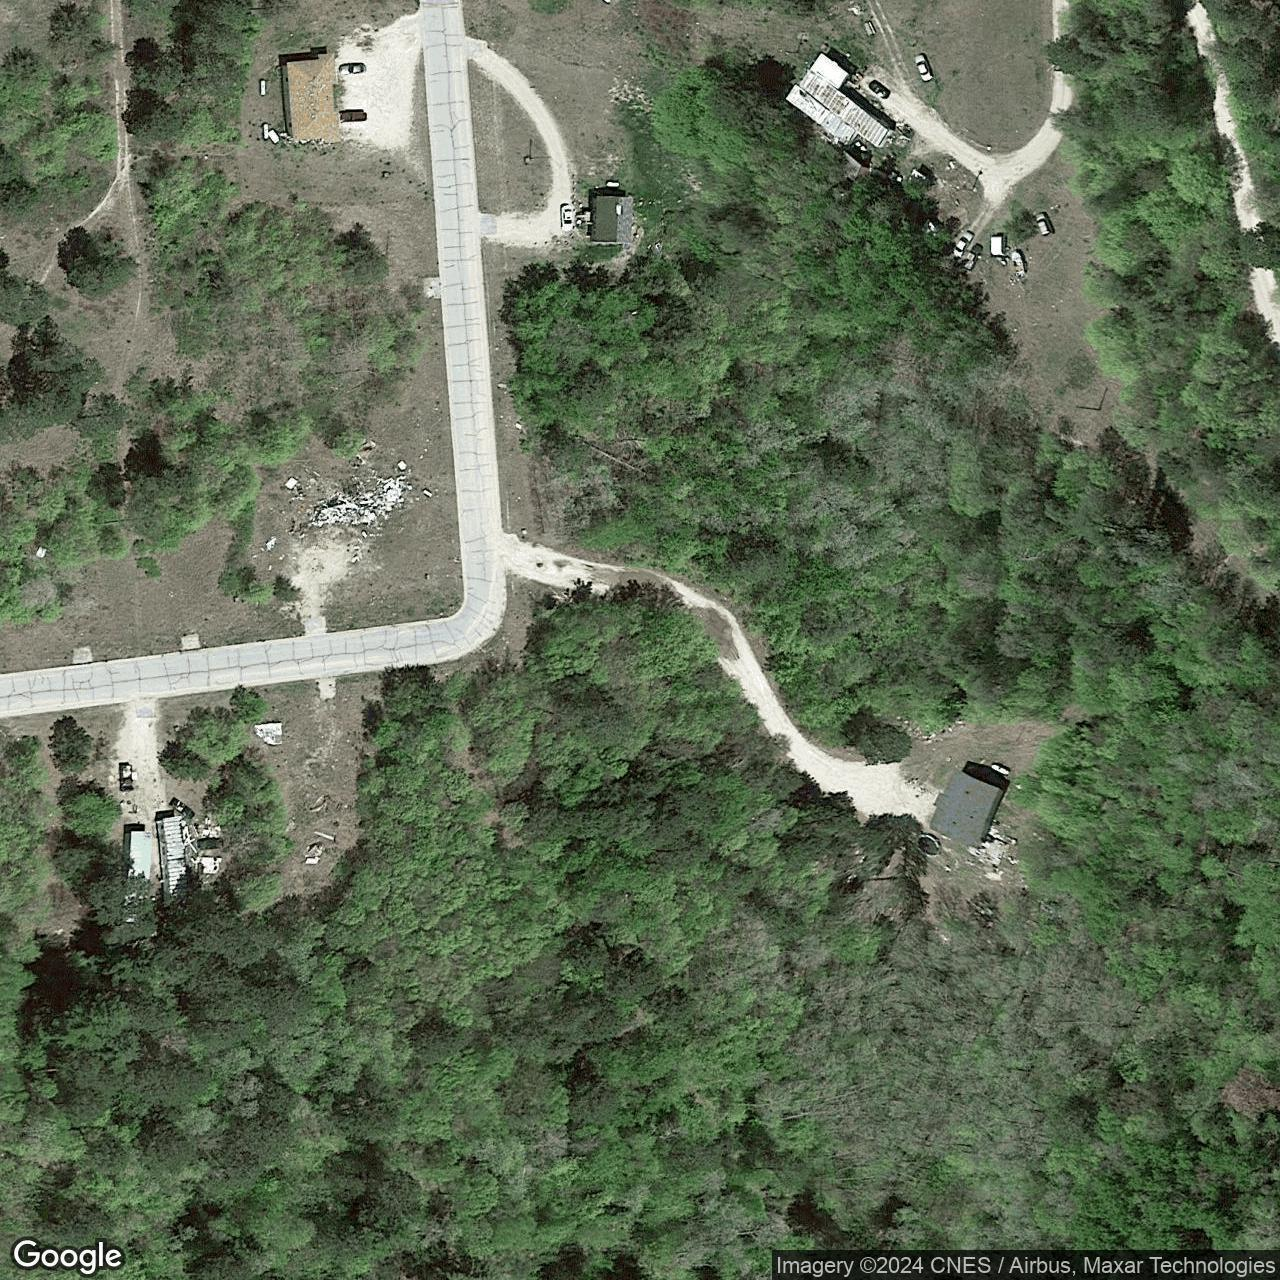House: (928, 768, 1007, 851), (281, 53, 340, 144), (591, 195, 634, 245)
Propane: (990, 758, 1013, 778), (604, 178, 621, 188), (260, 122, 268, 142), (259, 77, 266, 98)
Trailer: (787, 52, 892, 149), (157, 816, 189, 906), (123, 830, 151, 924)
